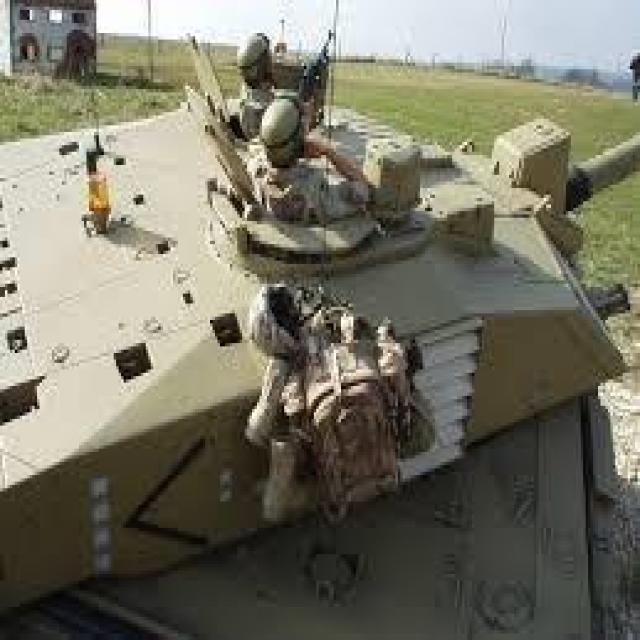MIL_MBT: (9, 102, 621, 624)
